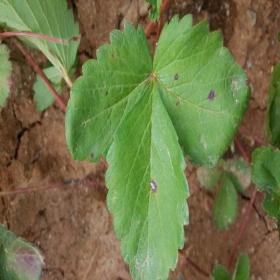Leaf Spot: (105, 74, 191, 279), (153, 12, 252, 170), (64, 21, 153, 163), (196, 158, 227, 190)
